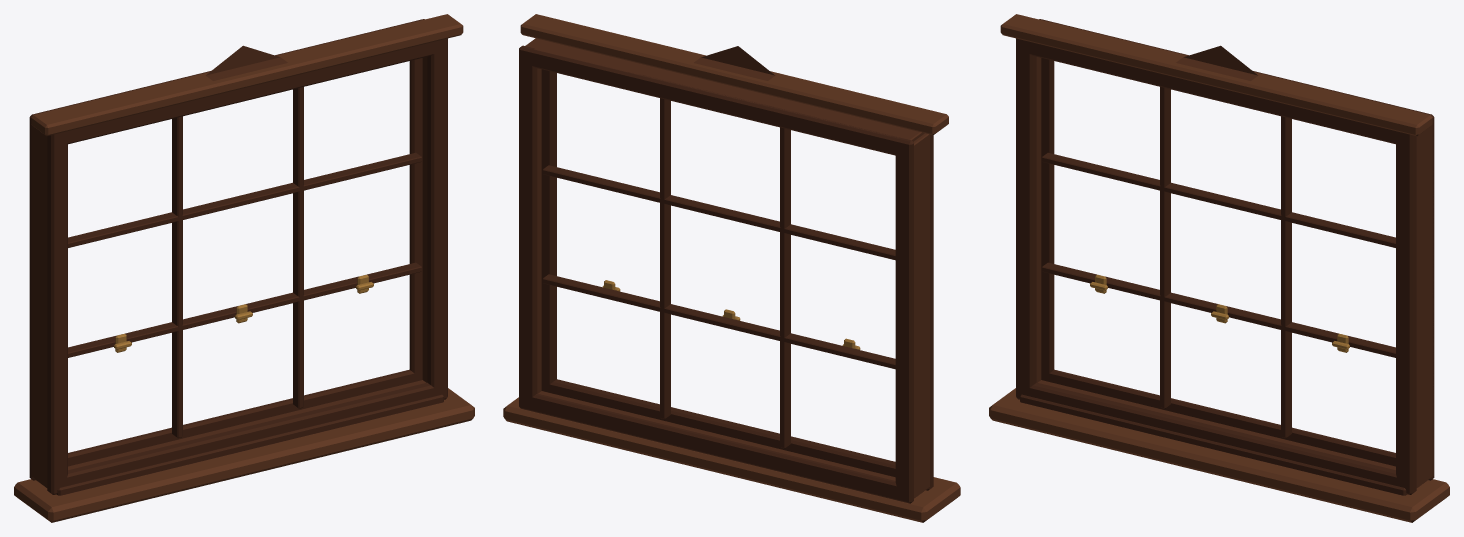
Rendered from PubWindowFrame.glb.
3 renders of one model, left to right at view 1: azimuth 30°, elevation 25°; view 2: azimuth 150°, elevation 25°; view 3: azimuth 330°, elevation 25°, orthographic.
Parts seen in each view (by area): view 1: DeepSill.001, LintelCap.001, FrameUpright.005, FrameUpright.004, FrameRail.004, SideReveal.002, FrameRail.005, FrameRail.006, FrameUpright.007, HorizontalMuntin.003, HorizontalMuntin.002, VerticalMullion.001 (+6 smaller); view 2: LintelCap.001, DeepSill.001, FrameRail.006, FrameRail.007, FrameUpright.007, FrameUpright.006, SideReveal.002, FrameRail.004, FrameUpright.005, RevealEnd.003, HorizontalMuntin.002, HorizontalMuntin.003 (+6 smaller); view 3: DeepSill.001, LintelCap.001, FrameUpright.005, FrameUpright.004, SideReveal.003, FrameRail.004, FrameRail.005, FrameRail.006, FrameUpright.006, HorizontalMuntin.003, HorizontalMuntin.002, VerticalMullion.002 (+6 smaller).
Boxes of the visible parts, x1=… form: DeepSill.001: x1=14, y1=388, x2=474, y2=522; LintelCap.001: x1=31, y1=14, x2=463, y2=135; FrameUpright.005: x1=427, y1=38, x2=447, y2=399; FrameUpright.004: x1=47, y1=133, x2=67, y2=494; FrameRail.004: x1=54, y1=382, x2=446, y2=494; SideReveal.002: x1=31, y1=125, x2=47, y2=487; FrameRail.005: x1=48, y1=42, x2=434, y2=146; FrameRail.006: x1=34, y1=369, x2=422, y2=480; FrameUpright.007: x1=409, y1=19, x2=424, y2=375; HorizontalMuntin.003: x1=68, y1=152, x2=421, y2=247; HorizontalMuntin.002: x1=68, y1=262, x2=421, y2=357; VerticalMullion.001: x1=172, y1=116, x2=182, y2=438; LintelCap.001: x1=520, y1=14, x2=948, y2=135; DeepSill.001: x1=503, y1=397, x2=960, y2=522; FrameRail.006: x1=519, y1=393, x2=909, y2=503; FrameRail.007: x1=519, y1=49, x2=911, y2=157; FrameUpright.007: x1=519, y1=45, x2=537, y2=411; FrameUpright.006: x1=895, y1=137, x2=913, y2=503; SideReveal.002: x1=913, y1=133, x2=930, y2=497; FrameRail.004: x1=541, y1=379, x2=933, y2=490; FrameUpright.005: x1=541, y1=69, x2=556, y2=392; RevealEnd.003: x1=525, y1=38, x2=924, y2=141; HorizontalMuntin.002: x1=542, y1=274, x2=895, y2=369; HorizontalMuntin.003: x1=542, y1=165, x2=895, y2=260; DeepSill.001: x1=989, y1=388, x2=1449, y2=522; LintelCap.001: x1=1000, y1=14, x2=1432, y2=135; FrameUpright.005: x1=1396, y1=131, x2=1416, y2=494; FrameUpright.004: x1=1016, y1=38, x2=1036, y2=399; SideReveal.003: x1=1416, y1=121, x2=1433, y2=487; FrameRail.004: x1=1017, y1=382, x2=1416, y2=494; FrameRail.005: x1=1017, y1=39, x2=1416, y2=146; FrameRail.006: x1=1041, y1=369, x2=1395, y2=466; FrameUpright.006: x1=1039, y1=19, x2=1054, y2=381; HorizontalMuntin.003: x1=1042, y1=152, x2=1395, y2=247; HorizontalMuntin.002: x1=1042, y1=262, x2=1395, y2=357; VerticalMullion.002: x1=1281, y1=116, x2=1291, y2=438.
Size of the model in its own units: 7.1 by 6.56 by 1.1.
